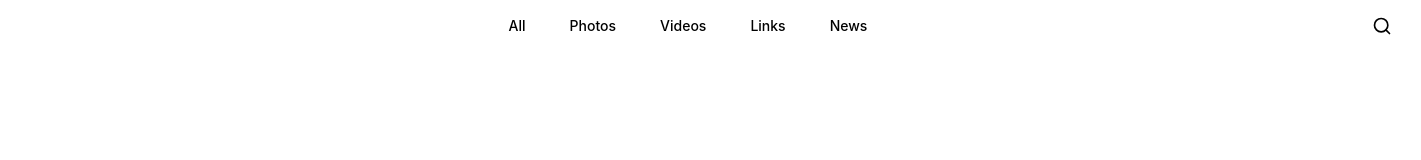
it: FeedFilterBar › Given the magnifier is pressed, should show a focused search input and a close button
Click the button named "Search posts" at (1382, 26), box x1=1360 y1=4 x2=1404 y2=48
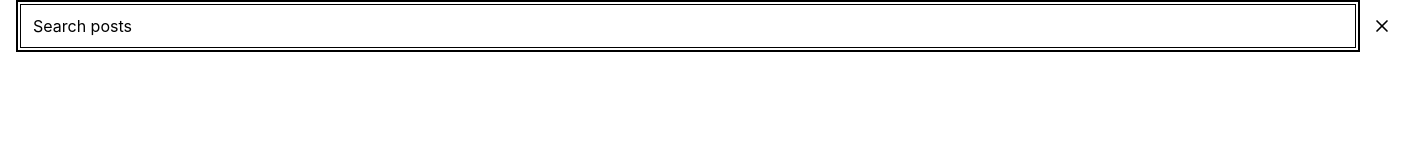
Expected: the button named "Close search" is shown, x1=1360 y1=4 x2=1404 y2=48
